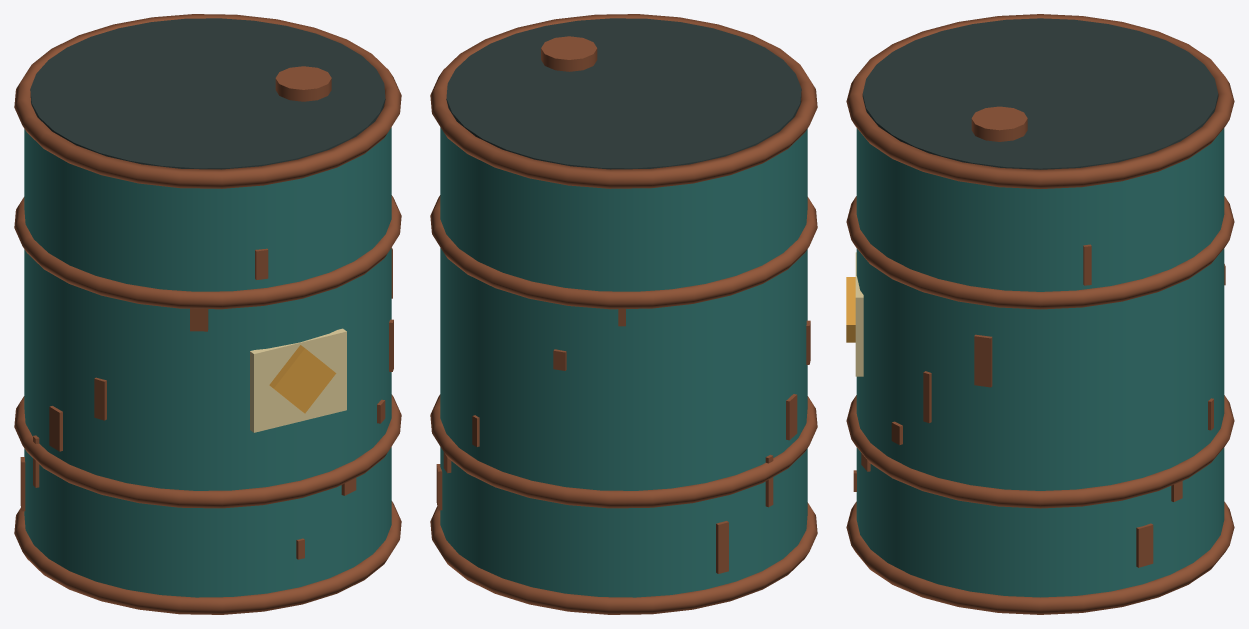
File: SM_FuelDrum_01.glb
3 views of the same model, side by side, from view 1: azimuth 30°, elevation 25°; view 2: azimuth 150°, elevation 25°; view 3: azimuth 270°, elevation 25° (orthographic).
Parts seen in each view (by area): view 1: SM_FuelDrum_01_M_DH_teal, SM_FuelDrum_01_M_DH_iron, SM_FuelDrum_01_M_DH_rust (×2), SM_FuelDrum_01_M_DH_cream, SM_FuelDrum_01_M_DH_ochre; view 2: SM_FuelDrum_01_M_DH_teal, SM_FuelDrum_01_M_DH_iron, SM_FuelDrum_01_M_DH_rust (×2); view 3: SM_FuelDrum_01_M_DH_teal, SM_FuelDrum_01_M_DH_iron, SM_FuelDrum_01_M_DH_rust (×2), SM_FuelDrum_01_M_DH_cream, SM_FuelDrum_01_M_DH_ochre.
Part boxes in pixels (bbox=[...]): SM_FuelDrum_01_M_DH_teal: bbox=[24, 127, 391, 597]; SM_FuelDrum_01_M_DH_iron: bbox=[30, 18, 385, 169]; SM_FuelDrum_01_M_DH_rust (×2): bbox=[14, 14, 401, 614]; SM_FuelDrum_01_M_DH_cream: bbox=[250, 328, 346, 432]; SM_FuelDrum_01_M_DH_ochre: bbox=[269, 345, 336, 413]; SM_FuelDrum_01_M_DH_teal: bbox=[440, 127, 807, 597]; SM_FuelDrum_01_M_DH_iron: bbox=[446, 18, 801, 169]; SM_FuelDrum_01_M_DH_rust (×2): bbox=[430, 14, 817, 614]; SM_FuelDrum_01_M_DH_teal: bbox=[856, 128, 1224, 597]; SM_FuelDrum_01_M_DH_iron: bbox=[862, 18, 1218, 169]; SM_FuelDrum_01_M_DH_rust (×2): bbox=[846, 14, 1234, 614]; SM_FuelDrum_01_M_DH_cream: bbox=[855, 252, 863, 376]; SM_FuelDrum_01_M_DH_ochre: bbox=[846, 277, 855, 342].
Size of the model in its own units: 0.76 by 0.983 by 0.76.
